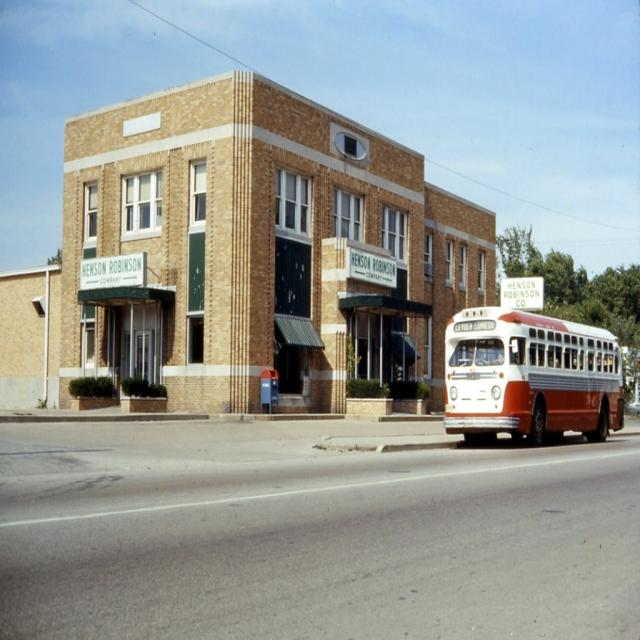Buses: (444, 304, 625, 449)
